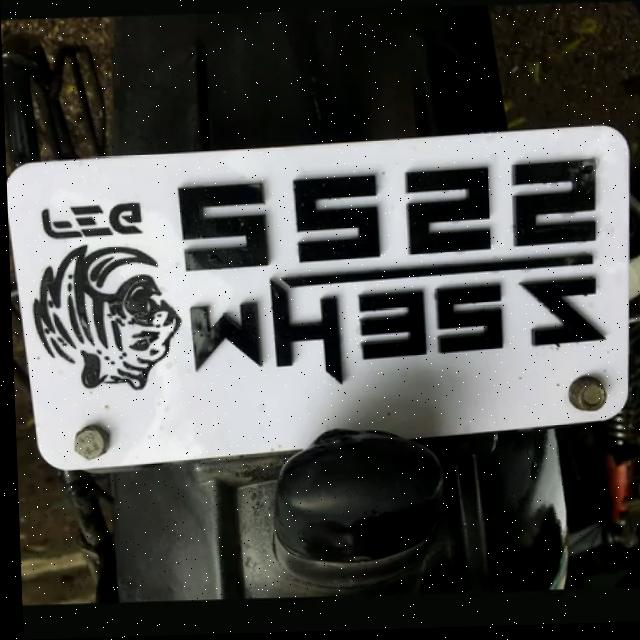plate: (4, 128, 639, 478)
